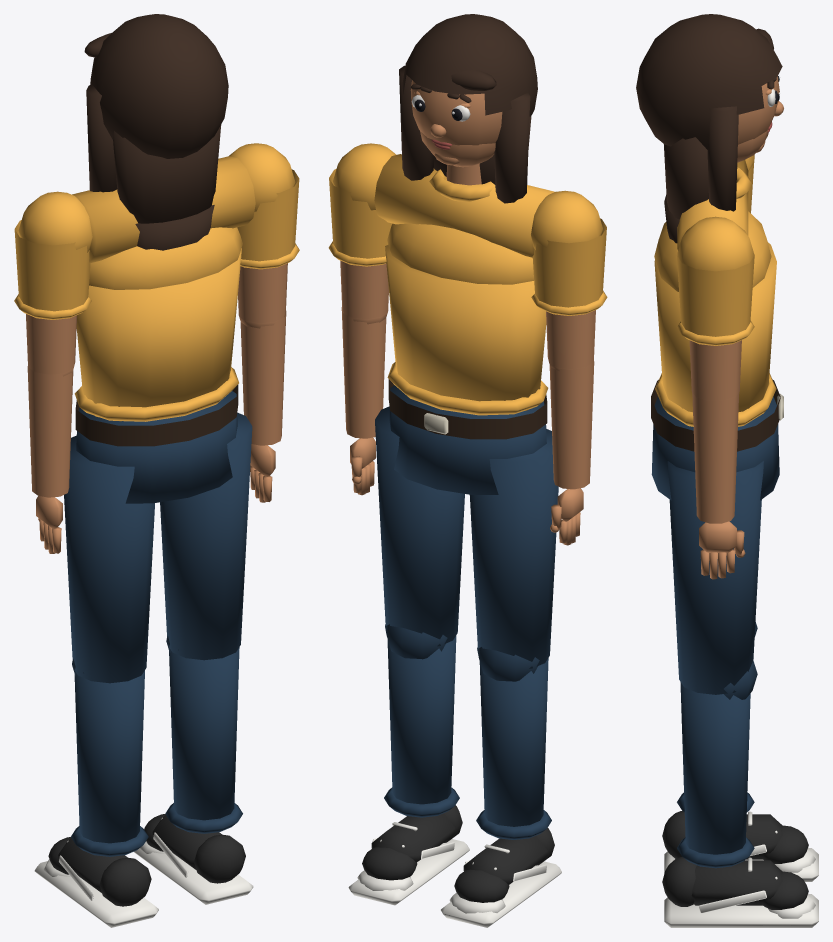
Rendered from person_1.glb.
3 views of the same model, side by side, from view 1: azimuth 30°, elevation 25°; view 2: azimuth 150°, elevation 25°; view 3: azimuth 270°, elevation 25° (orthographic). The views are drawn at different scales.
Parts seen in each view (by area): view 1: Body, Head, ShinL, ShinR, LegL, LegR, ArmL, ArmR, ForeArmL, ForeArmR; view 2: Body, Head, ShinR, ShinL, LegL, LegR, ArmL, ArmR, ForeArmL, ForeArmR; view 3: Head, ShinR, Body, LegR, ArmR, ForeArmR, ShinL.
Boxes of the visible parts, box(x1,y1,x2,y2) form: Body: box(72, 156, 255, 503); Head: box(84, 14, 228, 250); ShinL: box(34, 670, 158, 927); ShinR: box(133, 647, 253, 904); LegL: box(64, 435, 154, 683); LegR: box(160, 412, 252, 660); ArmL: box(14, 191, 92, 376); ArmR: box(229, 143, 299, 328); ForeArmL: box(27, 366, 73, 553); ForeArmR: box(240, 311, 286, 502); Body: box(374, 154, 554, 494); Head: box(399, 14, 537, 203); ShinR: box(348, 636, 469, 905); ShinL: box(440, 658, 561, 927); LegL: box(469, 429, 558, 681); LegR: box(375, 406, 464, 659); ArmL: box(531, 190, 607, 371); ArmR: box(328, 143, 396, 324); ForeArmL: box(549, 361, 594, 545); ForeArmR: box(341, 307, 386, 495); Head: box(636, 14, 783, 243); ShinR: box(662, 682, 818, 927); Body: box(651, 160, 783, 500); LegR: box(667, 461, 763, 699); ArmR: box(676, 216, 754, 400); ForeArmR: box(692, 392, 745, 579); ShinL: box(662, 792, 818, 881).
Bounding box in the file's own units: 0.554 × 1.69 × 0.319.
